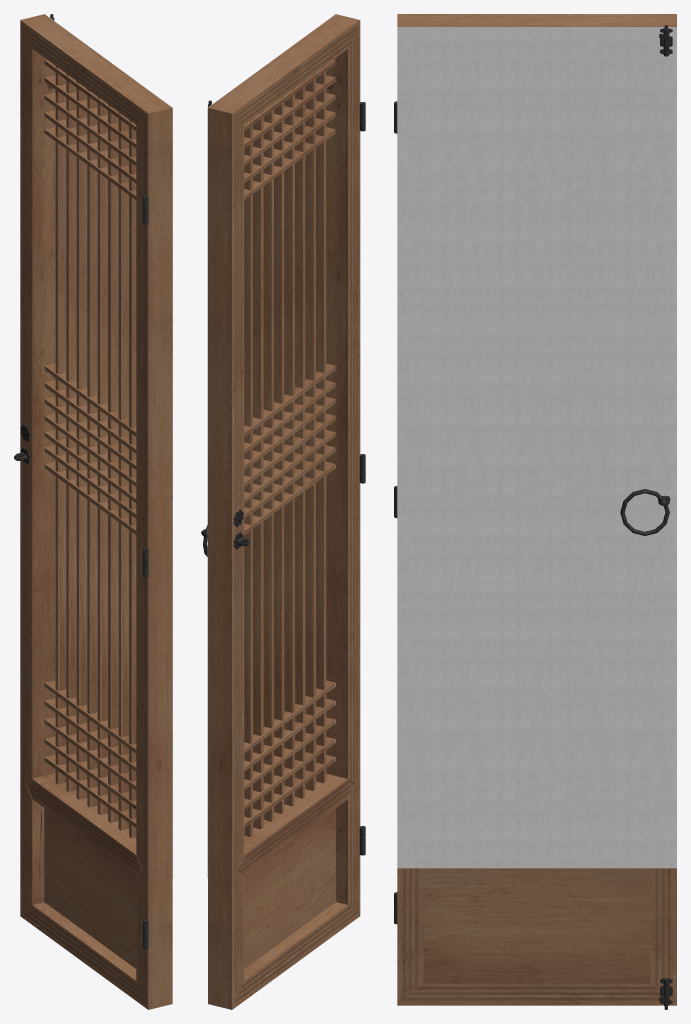
File: SM_JSH_WindowC.fbx
The picture shows the model from 3 angles, left to right: view 1: azimuth 30°, elevation 25°; view 2: azimuth 150°, elevation 25°; view 3: azimuth 270°, elevation 25°; orthographic projection. The views are drawn at different scales.
Parts seen in each view (by area): view 1: SM_JSH_WindowC; view 2: SM_JSH_WindowC; view 3: SM_JSH_WindowC.
Part boxes in pixels (x1=…): SM_JSH_WindowC: x1=14, y1=14, x2=172, y2=1009; SM_JSH_WindowC: x1=201, y1=14, x2=365, y2=1009; SM_JSH_WindowC: x1=394, y1=14, x2=676, y2=1009.
Size of the model in its own units: 11.06 by 53.06 by 204.
1 material, 1 textured.
